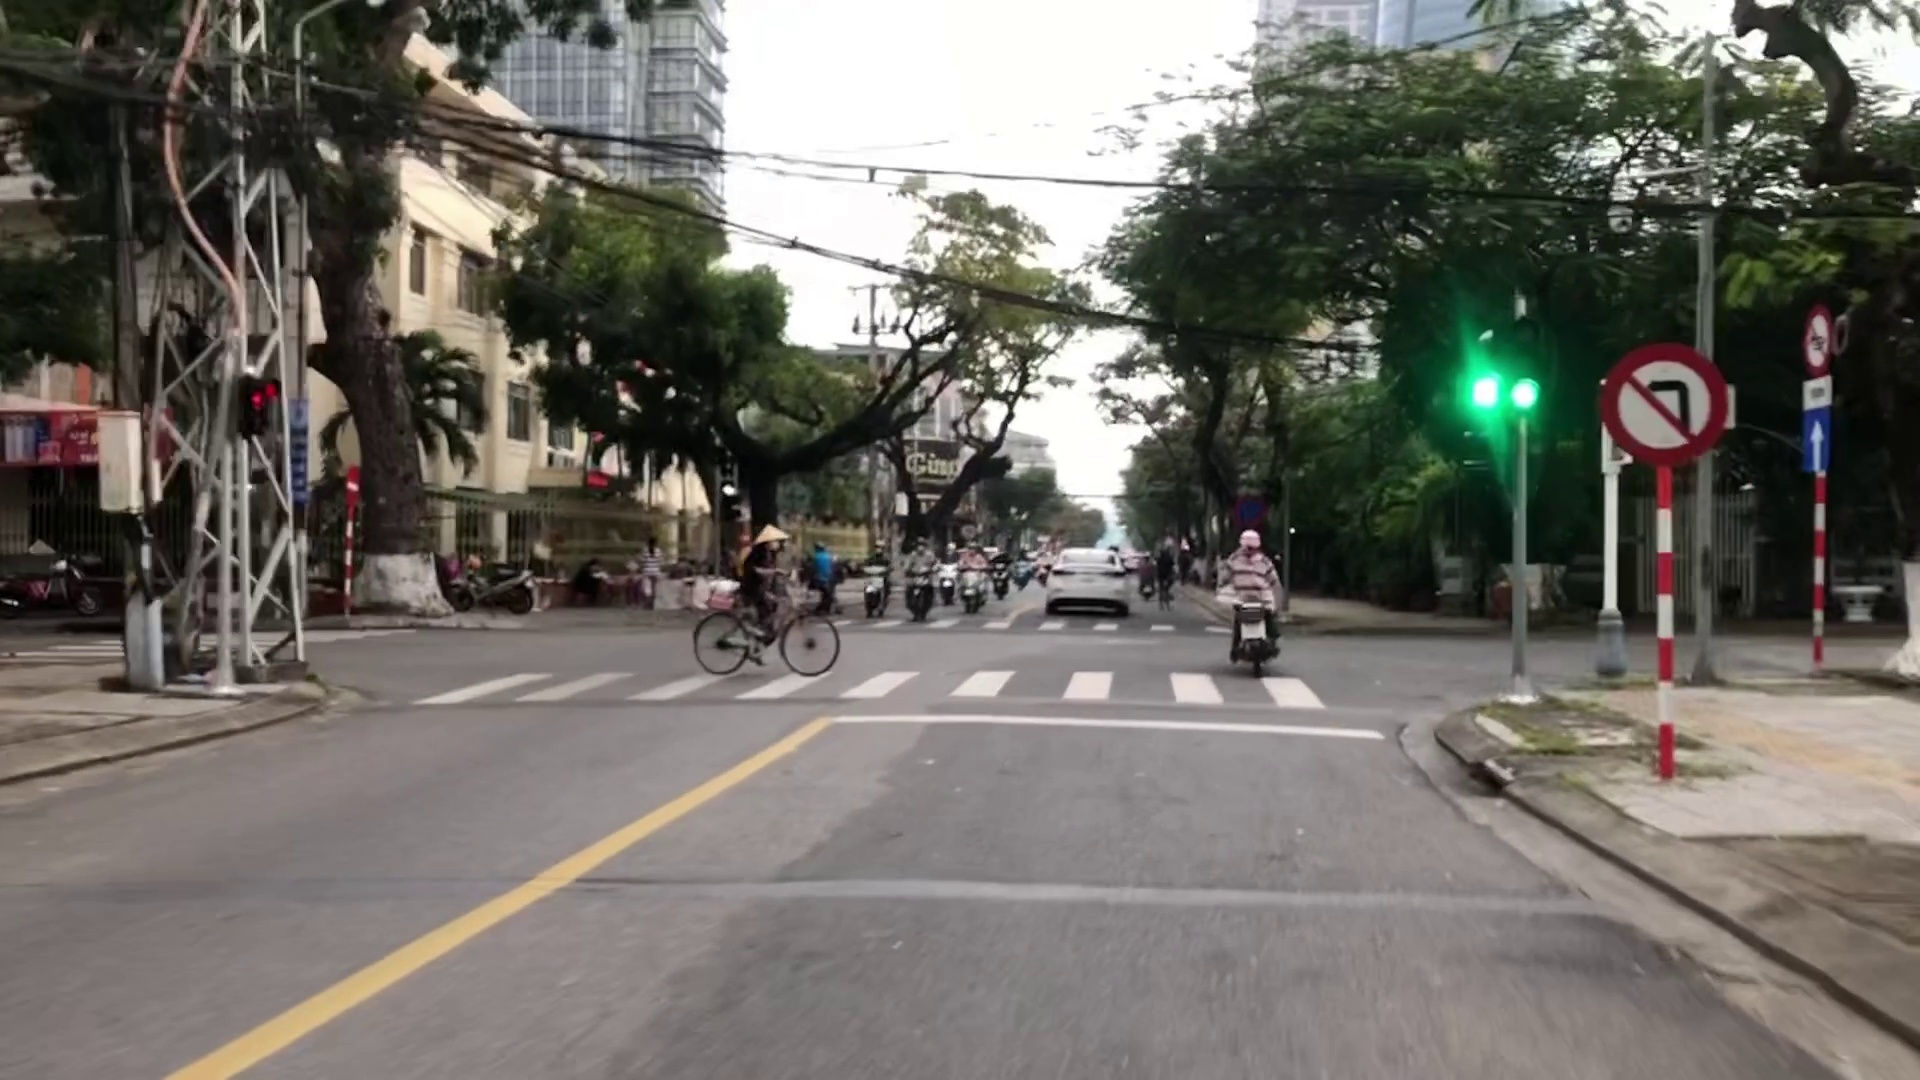Bien khac: (1602, 340, 1729, 469), (1804, 313, 1832, 473)
